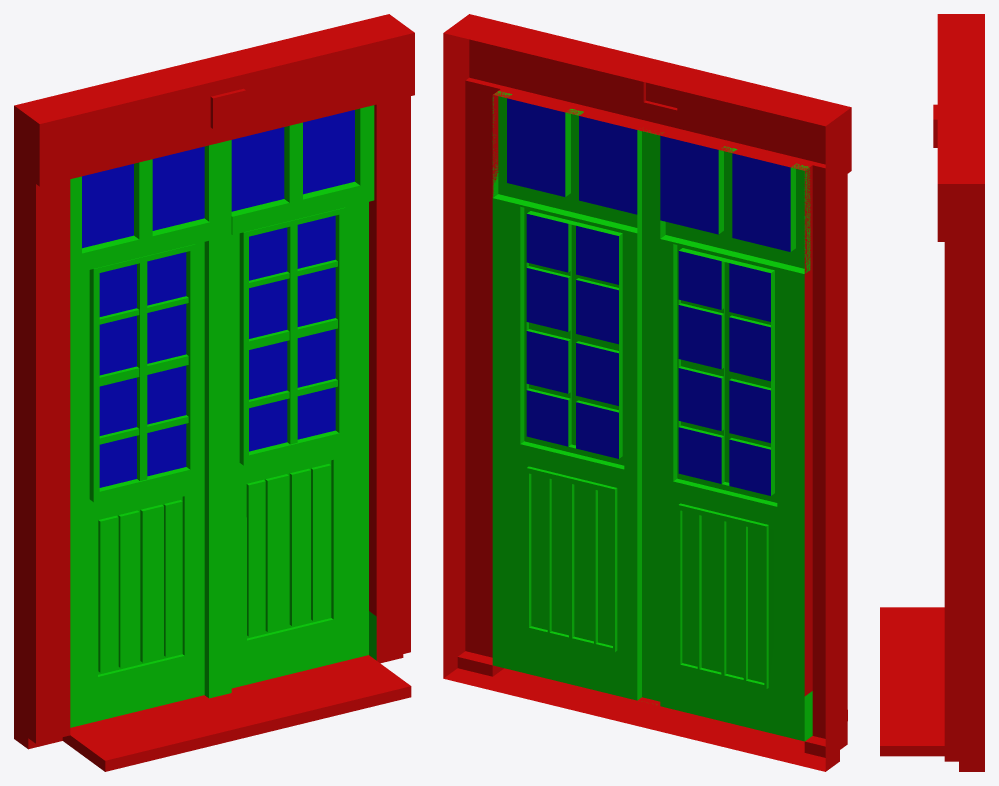
Rendered from MainDoubleDoor02_Nice.fbx.
The picture shows the model from 3 angles, left to right: view 1: azimuth 30°, elevation 25°; view 2: azimuth 150°, elevation 25°; view 3: azimuth 270°, elevation 25°; orthographic projection. The views are drawn at different scales.
Parts seen in each view (by area): view 1: MainDoubleDoor2; view 2: MainDoubleDoor2; view 3: MainDoubleDoor2.
Part boxes in pixels (<box>): MainDoubleDoor2: <box>14,14,414,771</box>; MainDoubleDoor2: <box>443,14,851,771</box>; MainDoubleDoor2: <box>880,14,984,771</box>.
Bounding box in the file's own units: 189 × 305 × 49.39.
